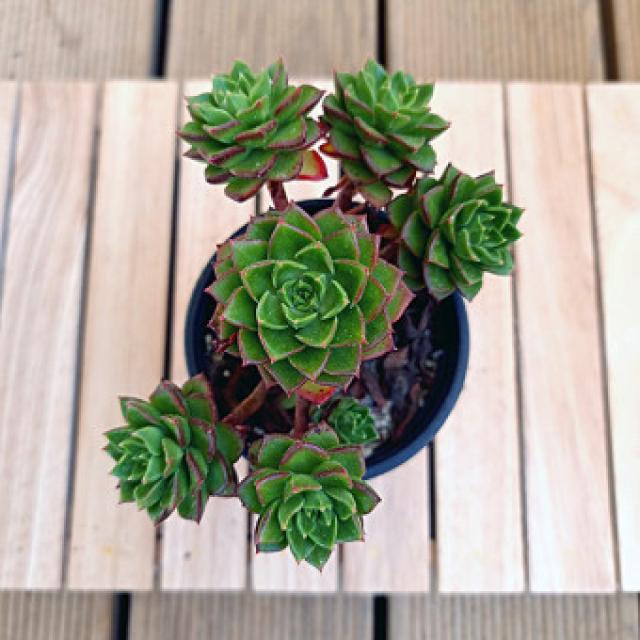Letizia: (210, 204, 412, 403), (179, 60, 326, 208), (239, 424, 379, 568), (106, 376, 242, 523), (321, 60, 449, 207), (388, 165, 522, 299)
